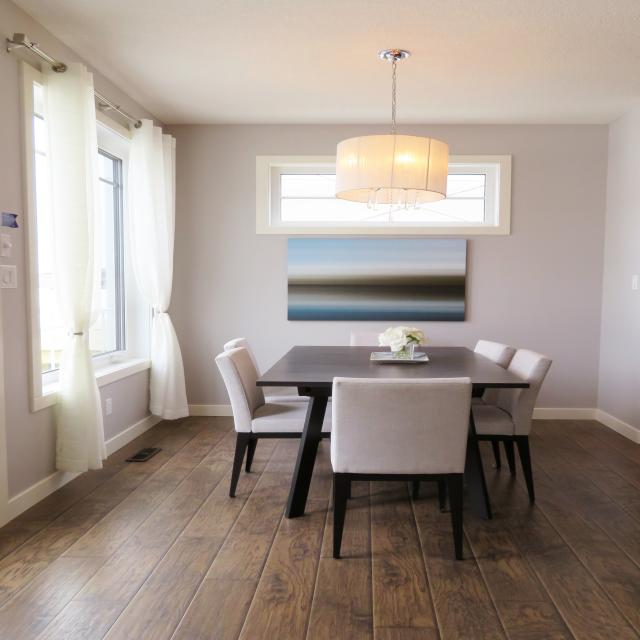floor: (0, 416, 640, 640)
wall: (165, 124, 609, 420), (287, 239, 467, 346), (596, 107, 640, 443), (98, 367, 165, 458)
